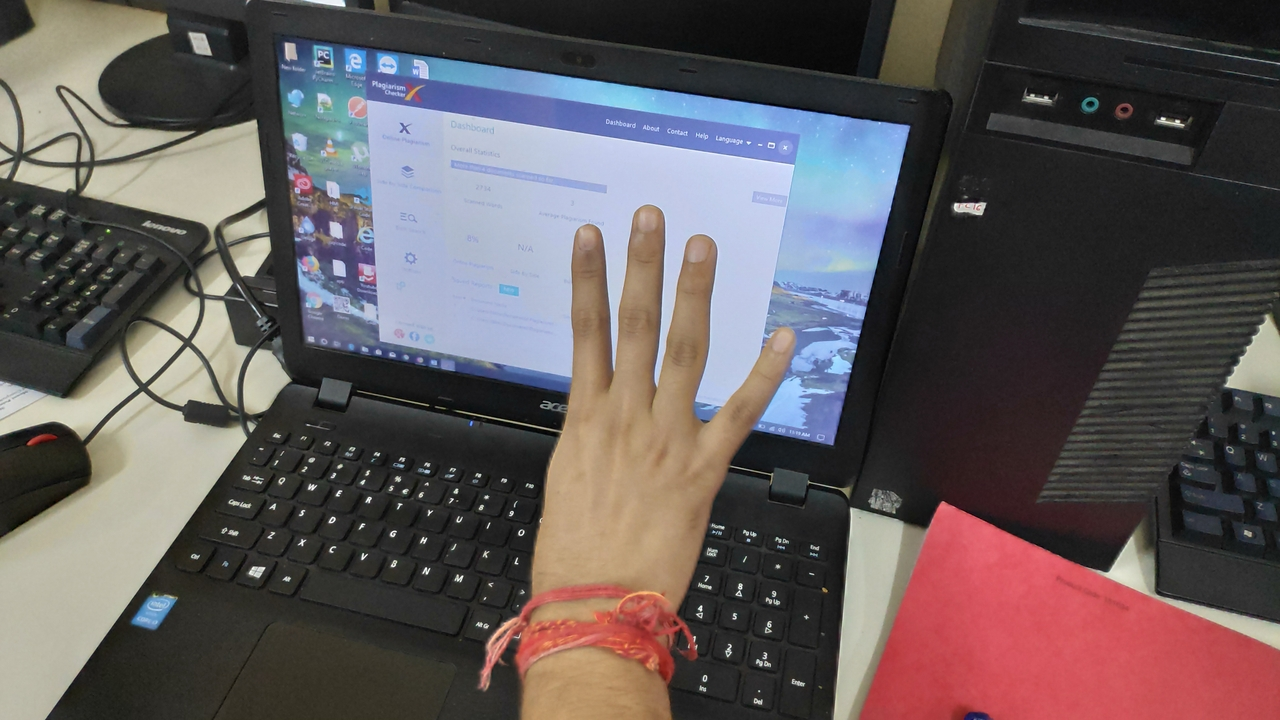fingertip: (618, 196, 672, 248), (562, 212, 612, 262), (668, 226, 722, 270), (756, 320, 800, 362)
